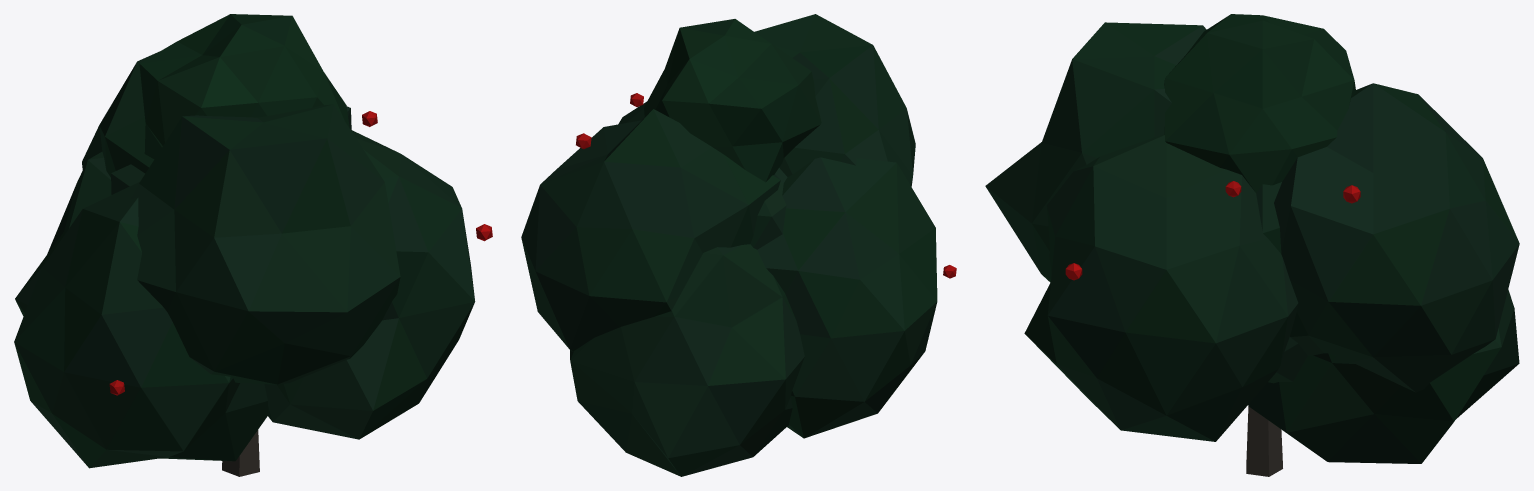
File: holly_bush.glb
3 views of the same model, side by side, from view 1: azimuth 30°, elevation 25°; view 2: azimuth 150°, elevation 25°; view 3: azimuth 270°, elevation 25° (orthographic). The views are drawn at different scales.
Visible parts, largest first — view 1: holly_bush; view 2: holly_bush; view 3: holly_bush.
Boxes of the visible parts, x1,y1,x2,y2 form: holly_bush: [14, 14, 492, 476]; holly_bush: [521, 14, 956, 476]; holly_bush: [985, 14, 1519, 476].
Size of the model in its own units: 1.83 by 1.95 by 2.1.
